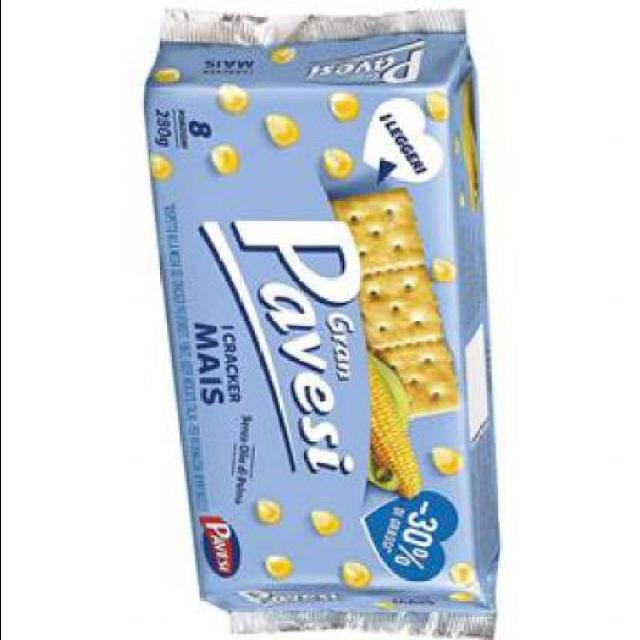Cracker: (145, 8, 508, 638)
